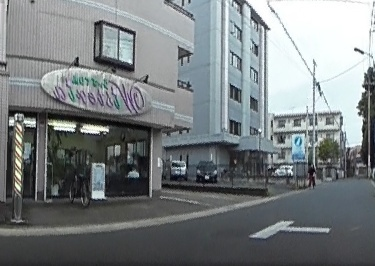person: (306, 163, 318, 186)
